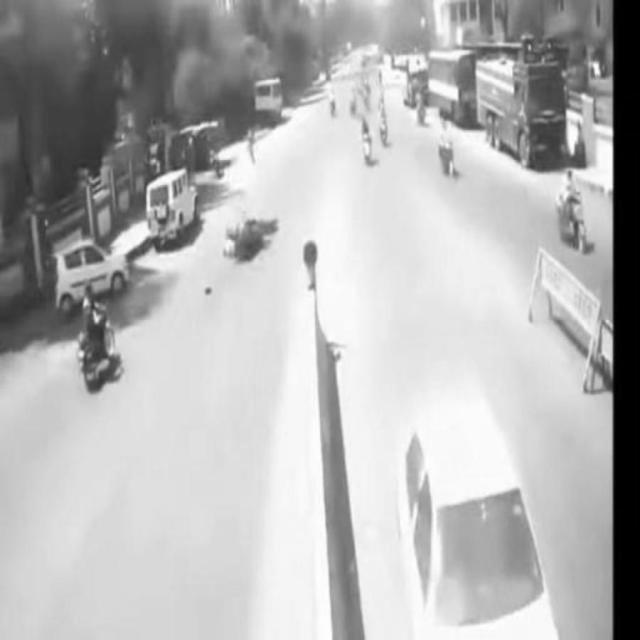vehicle: (403, 389, 563, 640), (479, 55, 572, 167), (55, 240, 132, 308), (143, 167, 204, 247), (78, 277, 124, 380), (555, 170, 591, 253)
